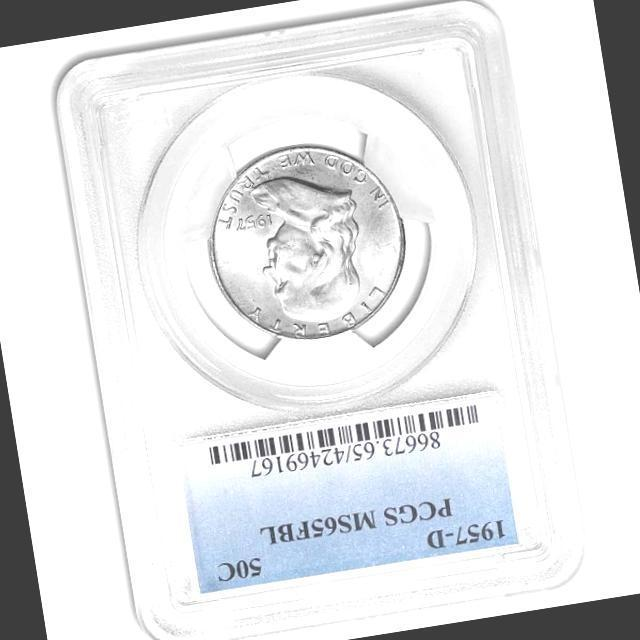Circle: (205, 136, 418, 352)
